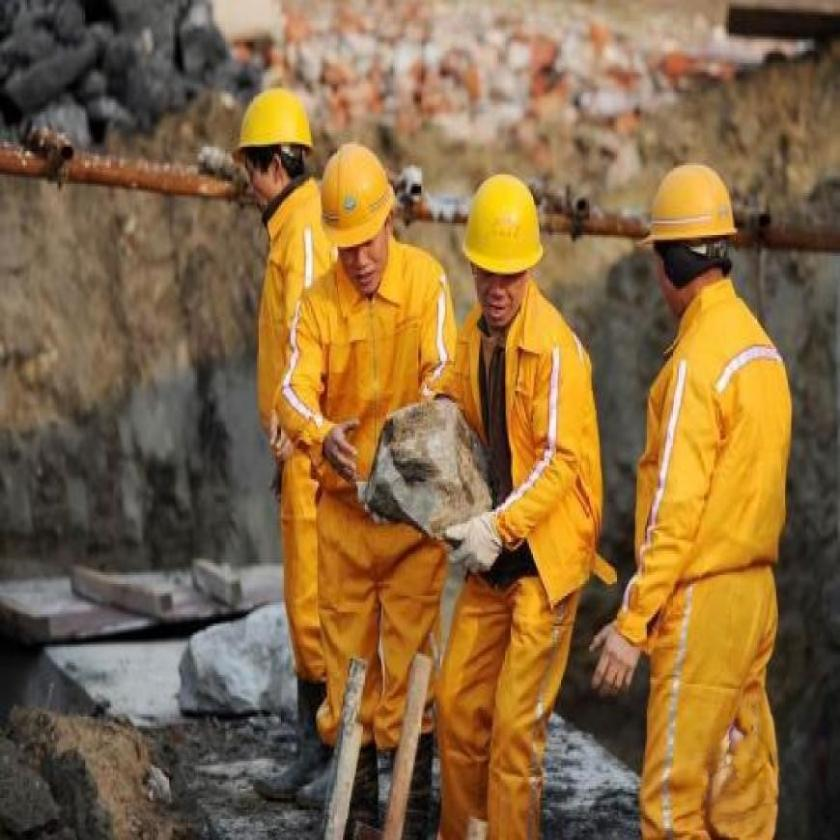Con_casco: (632, 145, 754, 313), (457, 158, 546, 328), (321, 138, 400, 304), (233, 88, 316, 212)
